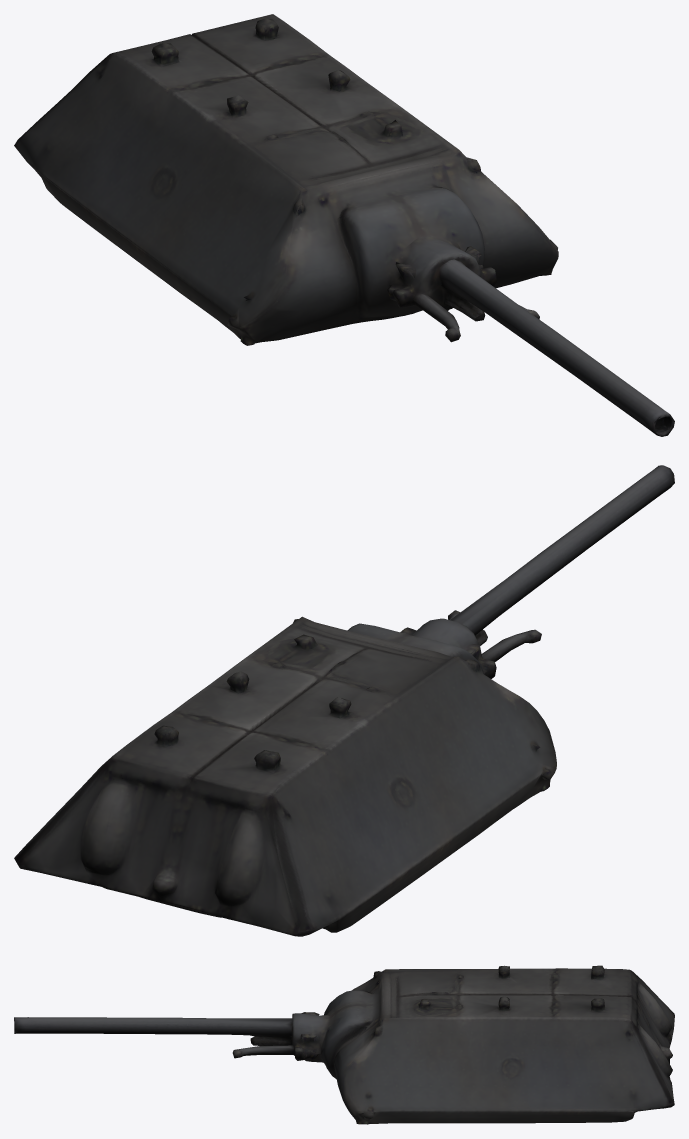
Rendered from maus_turret.glb.
3 renders of one model, top to bottom at view 1: azimuth 30°, elevation 25°; view 2: azimuth 150°, elevation 25°; view 3: azimuth 270°, elevation 25°, orthographic. The views are drawn at different scales.
Visible parts, largest first — view 1: rotating_turret; view 2: rotating_turret; view 3: rotating_turret.
Part boxes in pixels (bbox=[...]): rotating_turret: bbox=[14, 14, 674, 436]; rotating_turret: bbox=[14, 465, 674, 936]; rotating_turret: bbox=[14, 965, 674, 1124].
Bounding box in the file's own units: 0.3619 × 0.1563 × 0.9801.
Materials: 2 (1 with a texture image).
